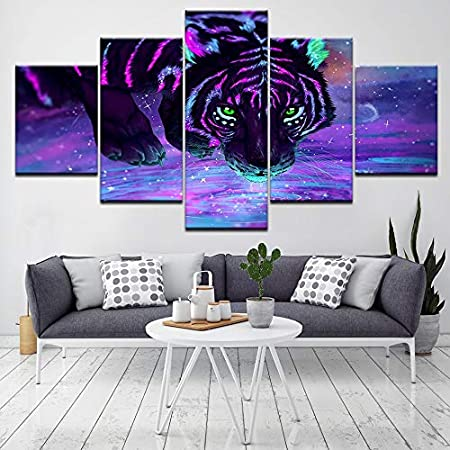Tigrew: (43, 12, 335, 195)
